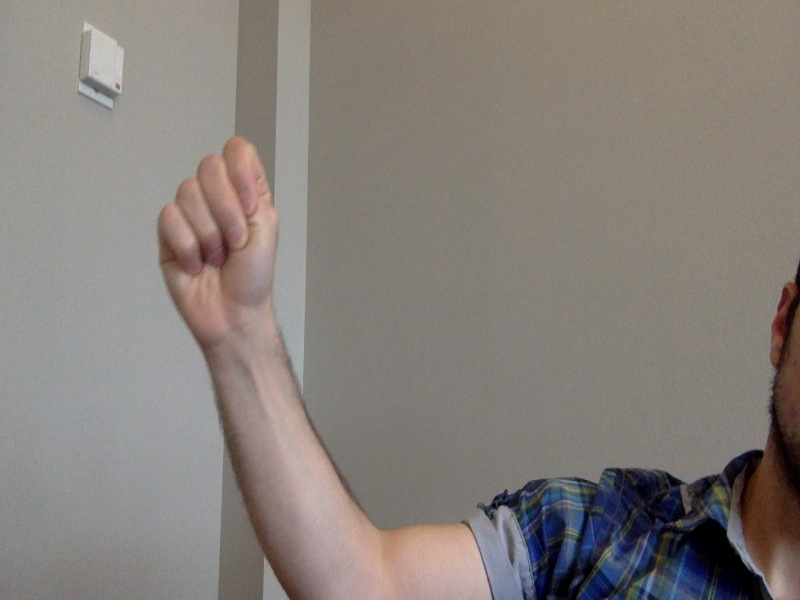0-hand: (155, 137, 280, 349)
